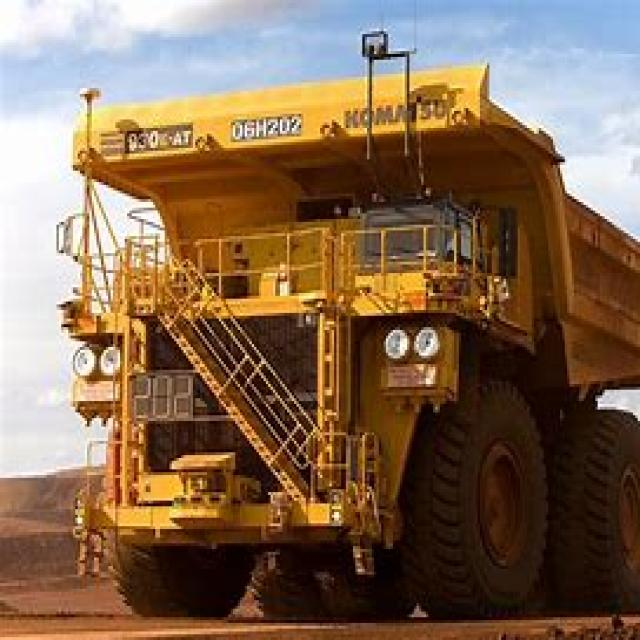dump_truck: (52, 34, 638, 620)
